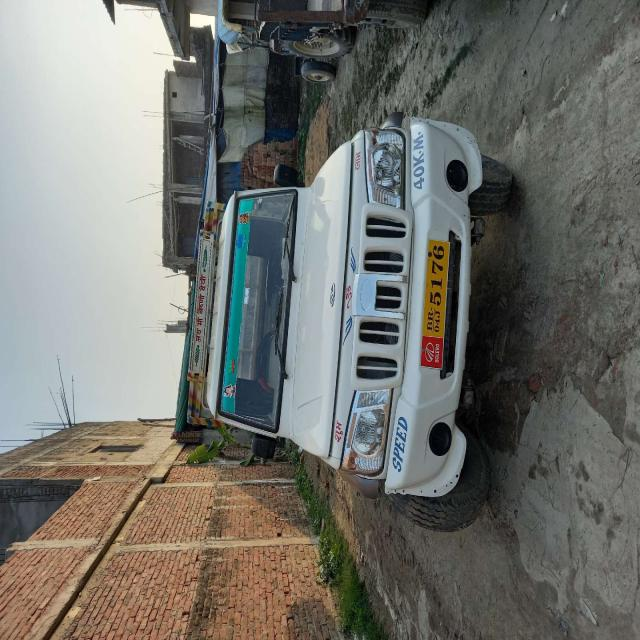light_vehicle: (182, 136, 486, 475)
